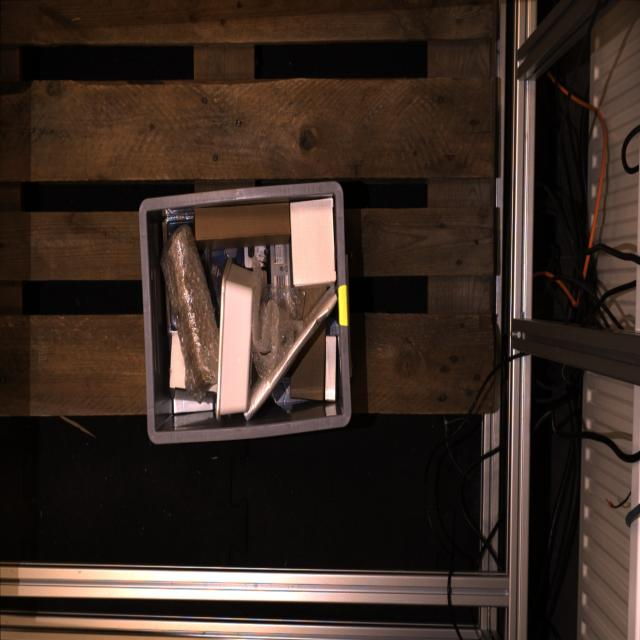BoxInsideWrap: (159, 225, 218, 397)
CardboardBox: (194, 203, 289, 249), (290, 198, 337, 290), (290, 321, 325, 399), (296, 286, 327, 321), (173, 389, 213, 413), (170, 331, 185, 388), (326, 336, 337, 402)
ItemPackaging: (198, 244, 291, 310), (164, 210, 194, 238), (169, 306, 177, 331)
Package: (244, 286, 337, 420)
PackagingAirBags: (252, 260, 305, 378)
PlasticContainer: (216, 256, 254, 420)
